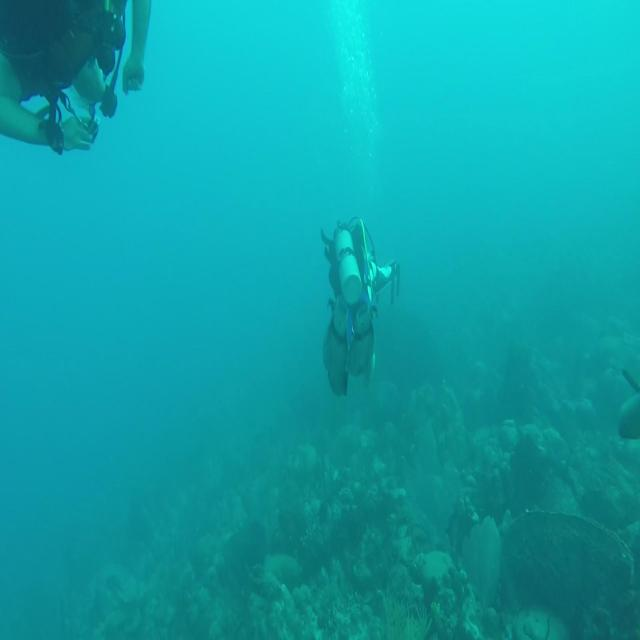human: (0, 0, 152, 156), (320, 215, 400, 397)
